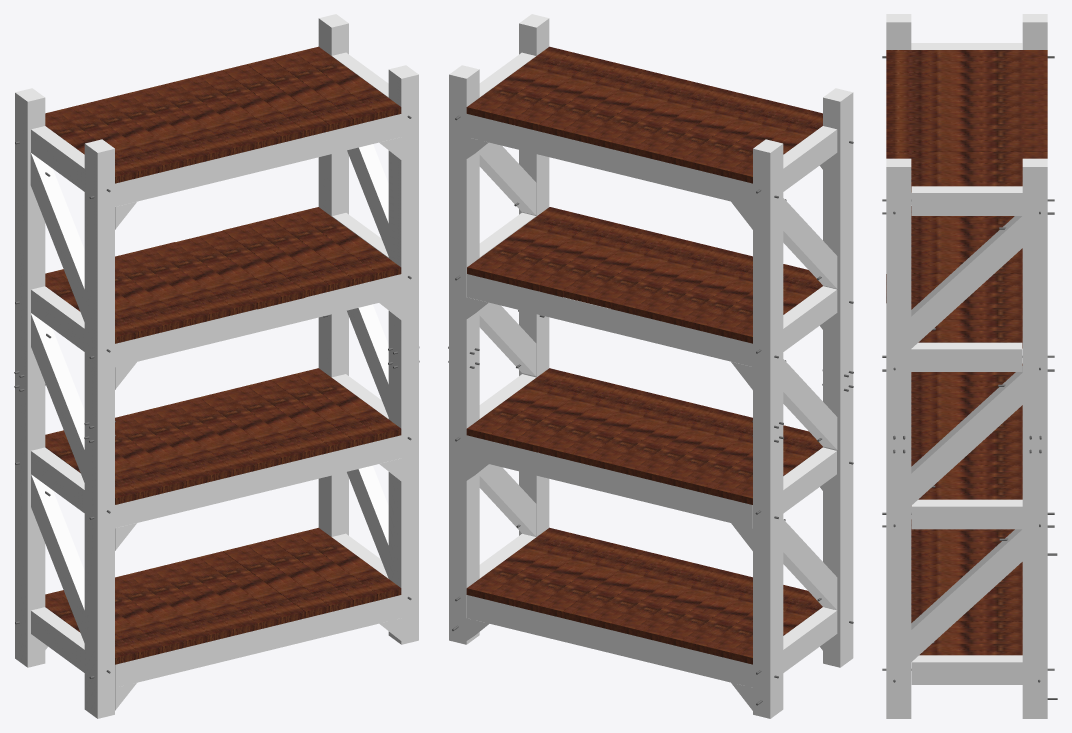
Rendered from armario_marron.glb.
The picture shows the model from 3 angles, left to right: view 1: azimuth 30°, elevation 25°; view 2: azimuth 150°, elevation 25°; view 3: azimuth 270°, elevation 25°; orthographic projection. The views are drawn at different scales.
Visible parts, largest first — view 1: Cube, Cube.005, Cube.014, Cube.011, Cube.009, Cube.002, Cubo.042, Cubo, Cubo.027, Cubo.028, Cube.019, Cube.012 (+62 smaller); view 2: Cube.009, Cube.002, Cube, Cube.010, Cube.013, Cubo.025, Cubo.044, Cubo.030, Cubo.002, Cube.005, Cube.014, Cube.003 (+62 smaller); view 3: Cube.011, Cube.013, Cube.014, Cube.010, Cube.021, Cube.022, Cube.020, Cube.017, Cube.015, Cube.016, Cube.018, Cubo.043 (+48 smaller).
Boxes of the visible parts, x1=… form: Cube: x1=84, y1=139, x2=114, y2=452; Cube.005: x1=84, y1=415, x2=114, y2=718; Cube.014: x1=388, y1=65, x2=418, y2=378; Cube.011: x1=388, y1=341, x2=418, y2=644; Cube.009: x1=15, y1=88, x2=45, y2=401; Cube.002: x1=15, y1=365, x2=45, y2=667; Cubo.042: x1=115, y1=114, x2=401, y2=206; Cubo: x1=115, y1=595, x2=401, y2=687; Cubo.027: x1=115, y1=435, x2=401, y2=527; Cubo.028: x1=115, y1=274, x2=401, y2=366; Cube.019: x1=30, y1=153, x2=84, y2=321; Cube.012: x1=31, y1=313, x2=84, y2=482; Cube.009: x1=753, y1=139, x2=783, y2=452; Cube.002: x1=753, y1=415, x2=783, y2=718; Cube: x1=823, y1=88, x2=853, y2=401; Cube.010: x1=449, y1=65, x2=479, y2=378; Cube.013: x1=449, y1=341, x2=479, y2=644; Cubo.025: x1=466, y1=435, x2=752, y2=528; Cubo.044: x1=466, y1=114, x2=752, y2=206; Cubo.030: x1=467, y1=274, x2=752, y2=366; Cubo.002: x1=467, y1=595, x2=752, y2=687; Cube.005: x1=823, y1=364, x2=853, y2=667; Cube.014: x1=519, y1=14, x2=549, y2=327; Cube.003: x1=783, y1=519, x2=837, y2=609; Cube.011: x1=886, y1=426, x2=911, y2=718; Cube.013: x1=1022, y1=426, x2=1047, y2=718; Cube.014: x1=886, y1=158, x2=911, y2=426; Cube.010: x1=1022, y1=158, x2=1047, y2=426; Cube.021: x1=911, y1=366, x2=1022, y2=505; Cube.022: x1=911, y1=529, x2=1022, y2=661; Cube.020: x1=911, y1=216, x2=1022, y2=348; Cube.017: x1=911, y1=499, x2=1022, y2=529; Cube.015: x1=911, y1=186, x2=1022, y2=215; Cube.016: x1=911, y1=342, x2=1022, y2=371; Cube.018: x1=911, y1=655, x2=1022, y2=684; Cubo.043: x1=886, y1=106, x2=1047, y2=117.
Bounding box in the file's own units: 1.04 × 1.7 × 0.4894.
Materials: 28 (1 with a texture image).
